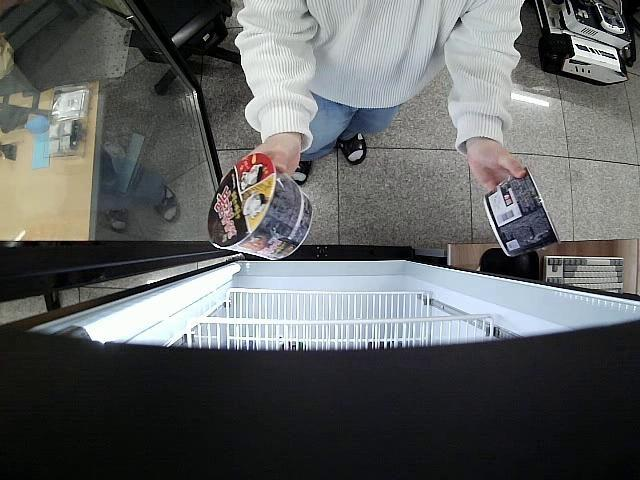07_buldak_L: (206, 153, 314, 260), (486, 167, 561, 262)
